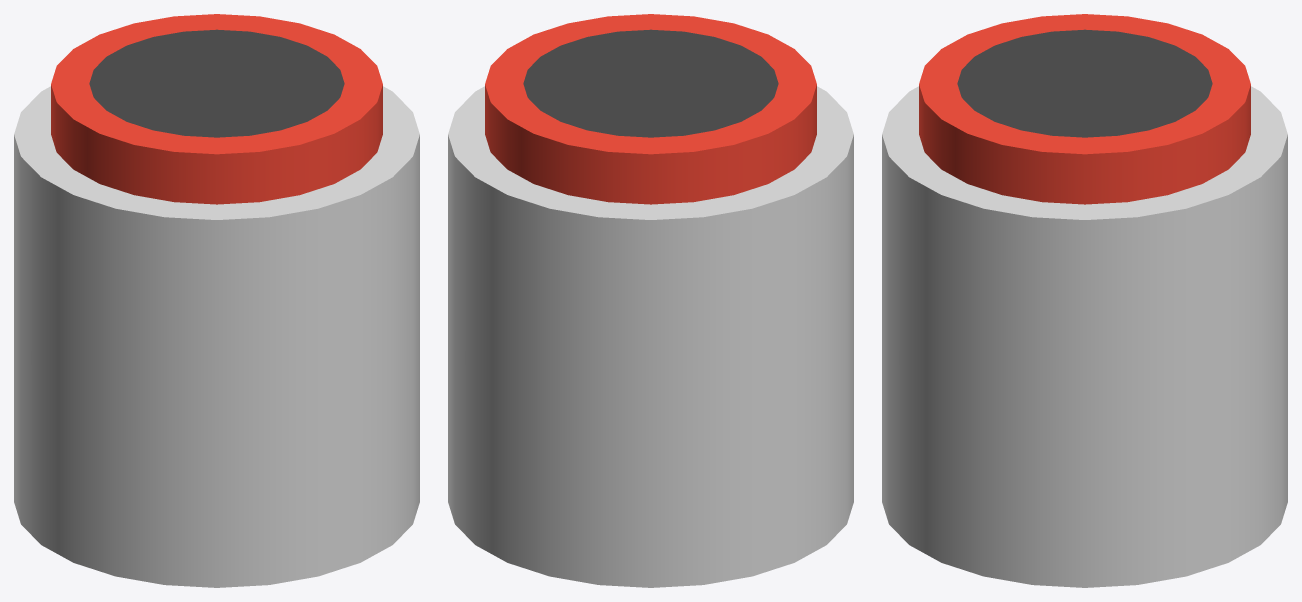
The model's file is Button A.fbx.
The picture shows the model from 3 angles, left to right: view 1: azimuth 30°, elevation 25°; view 2: azimuth 150°, elevation 25°; view 3: azimuth 270°, elevation 25°; orthographic projection.
Parts seen in each view (by area): view 1: Button A.001, Button A; view 2: Button A.001, Button A; view 3: Button A.001, Button A.
Boxes of the visible parts, box(x1,y1,x2,y2) form: Button A.001: box(14, 86, 419, 587); Button A: box(51, 14, 382, 204); Button A.001: box(448, 86, 853, 587); Button A: box(485, 14, 816, 204); Button A.001: box(882, 86, 1287, 587); Button A: box(919, 14, 1250, 204).
Bounding box in the file's own units: 132 × 150 × 132.
